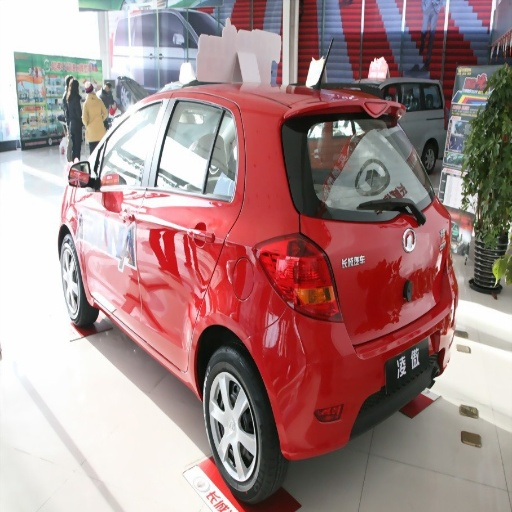back_bumper: (257, 303, 452, 456)
back_glass: (289, 119, 412, 215)
back_left_door: (136, 100, 239, 316)
back_left_light: (255, 236, 343, 321)
trunk: (319, 212, 445, 344)
